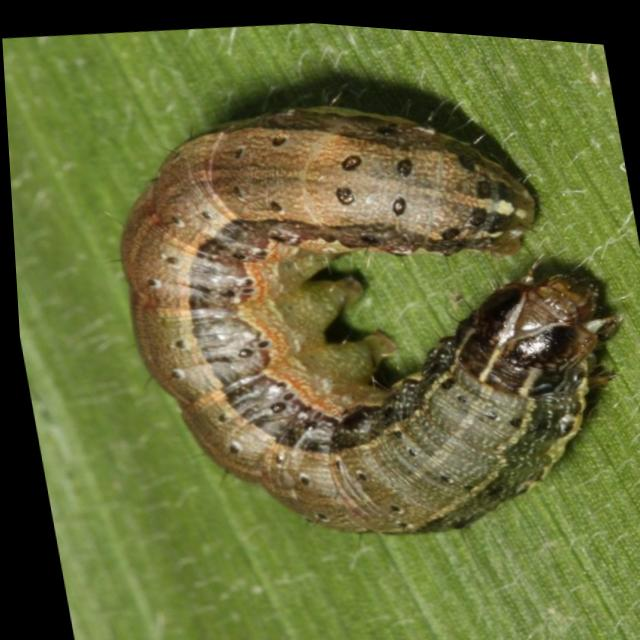Fall-Armyworm: (73, 31, 640, 580)
